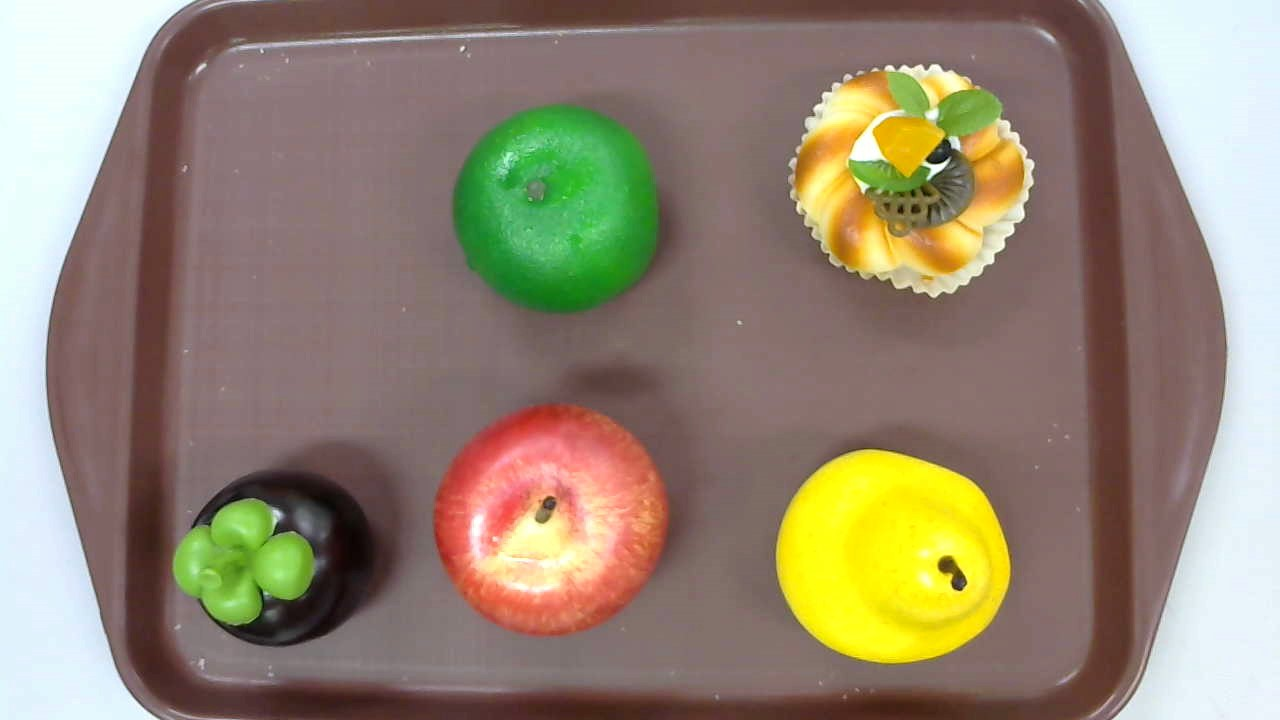fruit tower: (788, 62, 1035, 303)
green orange: (452, 103, 660, 312)
mangosteen: (172, 470, 379, 647)
red apple: (432, 402, 670, 638)
yellow pear: (776, 448, 1010, 664)
